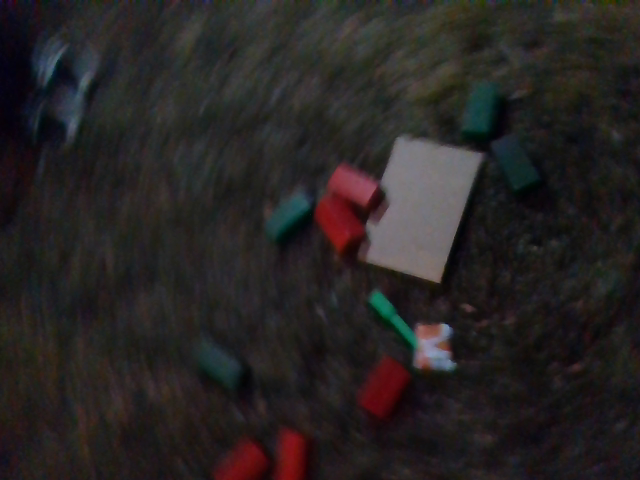Probe: (366, 285, 428, 359)
